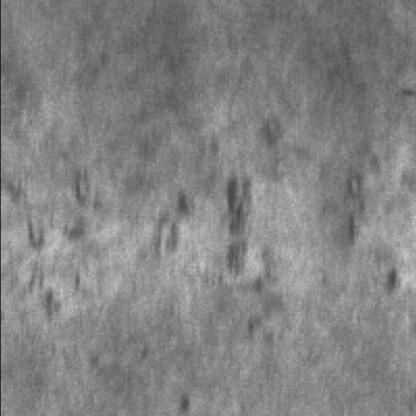rolled-in_scale: (6, 168, 258, 320), (343, 145, 402, 285)
